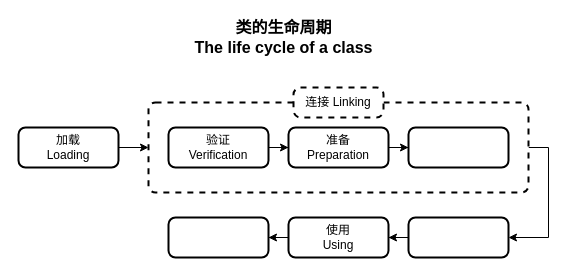
Image size: 574x275. Some labels were removed from this diagram. The shapes that lost their labels are listed below. From the top down, each one's box as (x1, y1, x2, y2) in pixels, then its label:
(407, 126, 509, 168): 解析 Resolution
(167, 216, 269, 258): 卸载 Unloading
(407, 216, 509, 258): 初始化 Initialization
